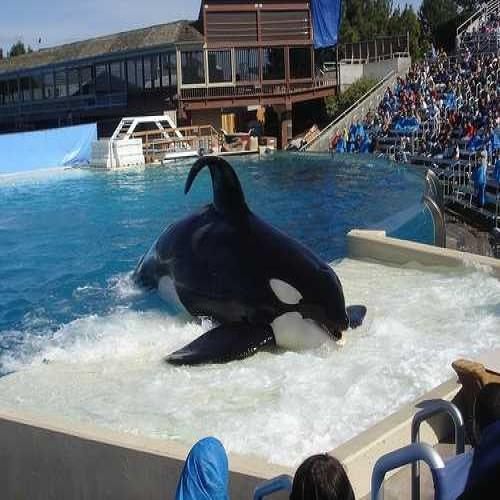killer_whale-endangered: (123, 184, 360, 369)
